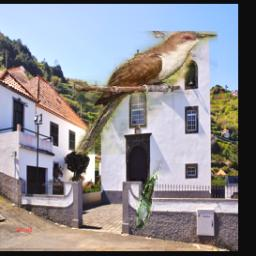Cuckoo: (75, 31, 218, 155), (135, 156, 162, 229)
